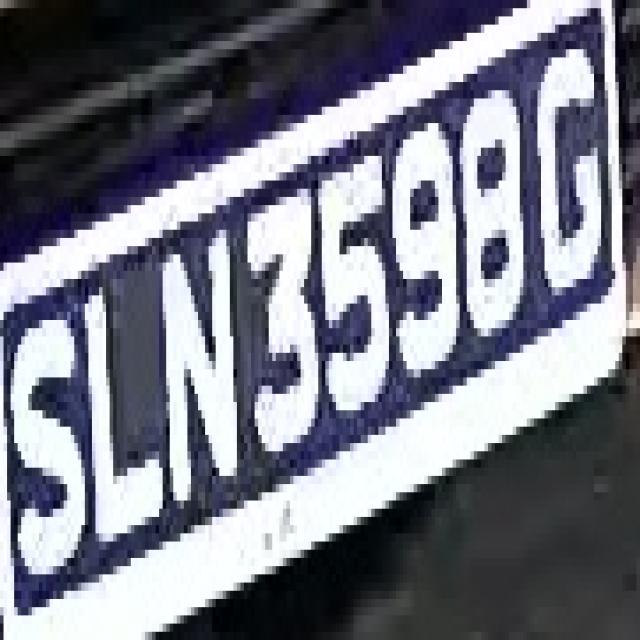3: (237, 181, 318, 484)
5: (311, 148, 389, 443)
8: (449, 74, 534, 386)
9: (382, 115, 463, 386)
G: (524, 32, 616, 304)
L: (81, 246, 163, 550)
N: (152, 213, 248, 525)
S: (14, 279, 89, 599)
